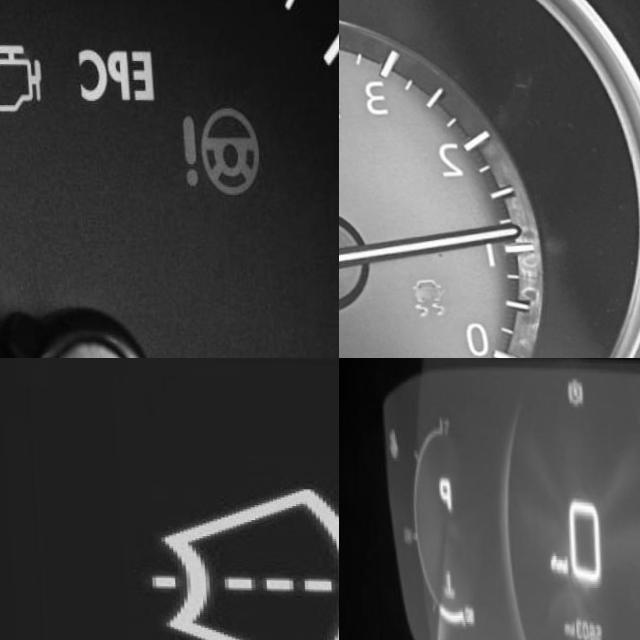Washer Fluid: (142, 483, 339, 640)
